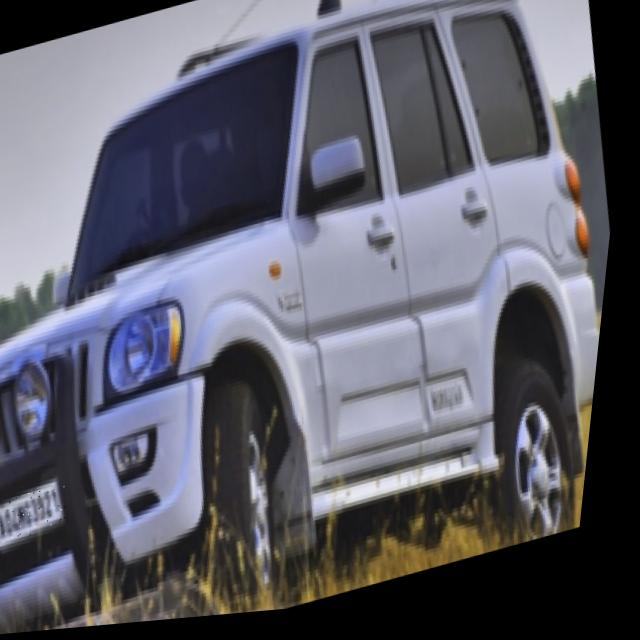license_plate: (0, 484, 84, 550)
